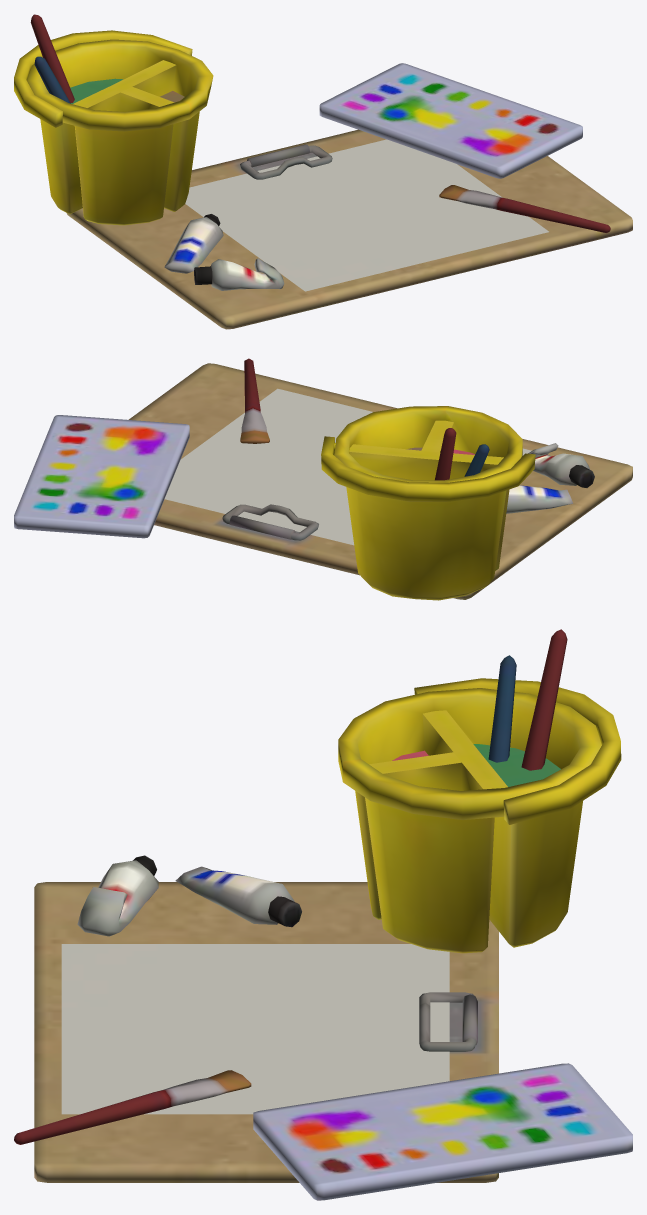
3 views of the same model, one above another, from view 1: azimuth 30°, elevation 25°; view 2: azimuth 150°, elevation 25°; view 3: azimuth 270°, elevation 25° (orthographic). The views are drawn at different scales.
Size of the model in its own units: 9.76 by 3.41 by 7.3.
2 materials, 2 textured.
